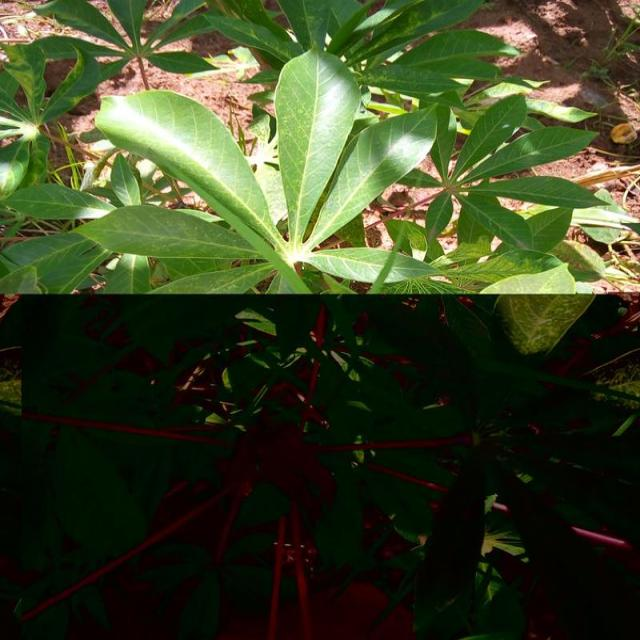cassava leaf: (94, 88, 286, 259), (273, 46, 361, 247)
